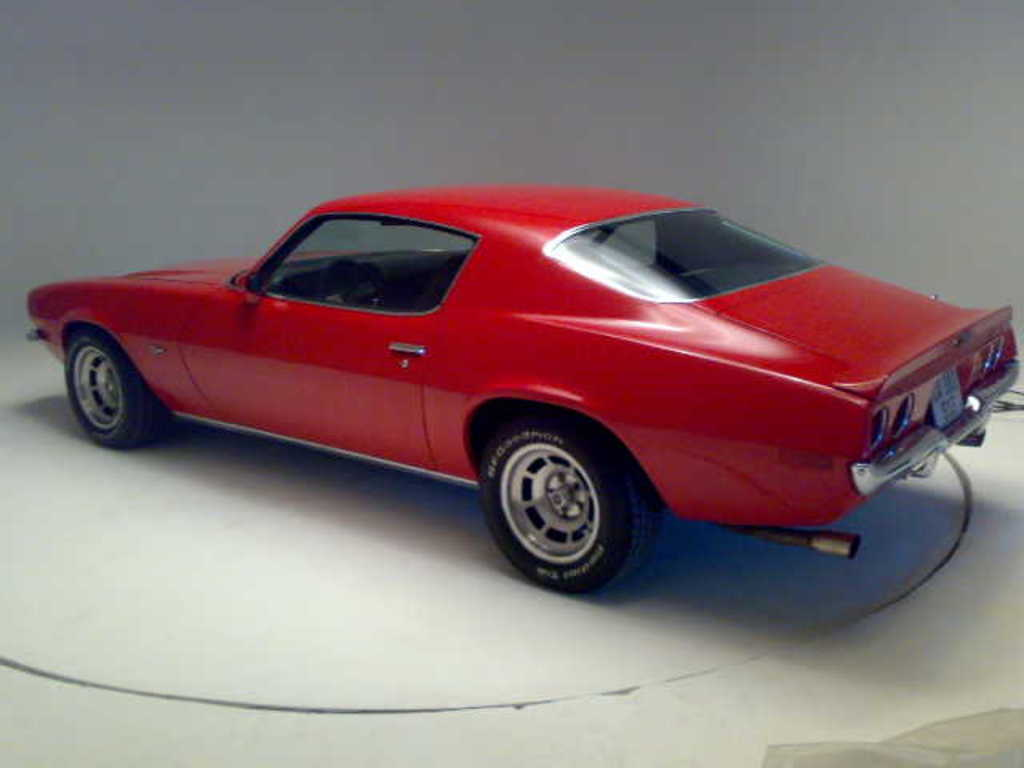Car: (30, 177, 1022, 608)
